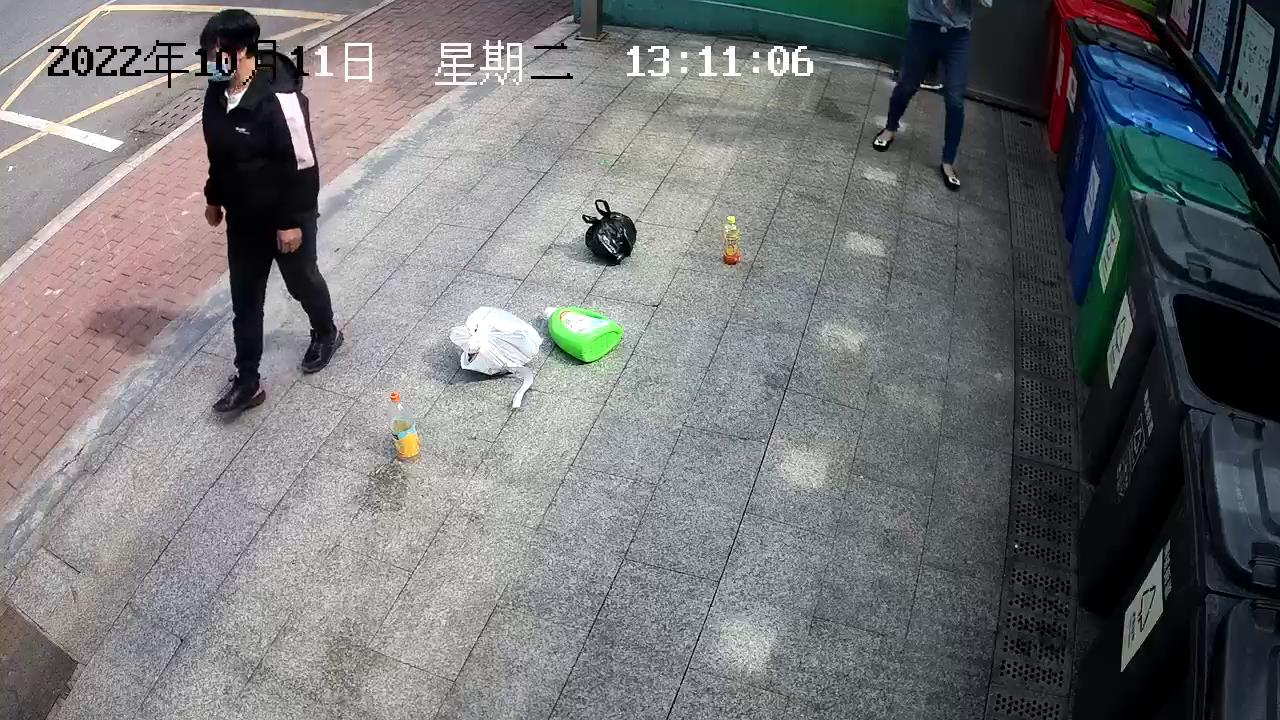garbage-bag: (445, 303, 544, 378), (578, 197, 639, 267)
person: (196, 6, 346, 426)
suliaozhipin: (540, 301, 627, 366), (383, 387, 424, 463), (721, 212, 744, 266)
worker: (872, 1, 988, 191)
